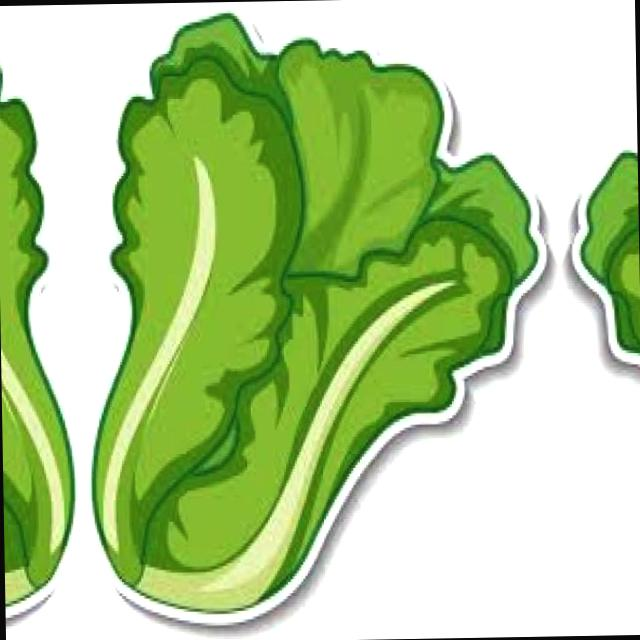healthy: (79, 0, 565, 640), (554, 0, 640, 635), (0, 6, 80, 640)
